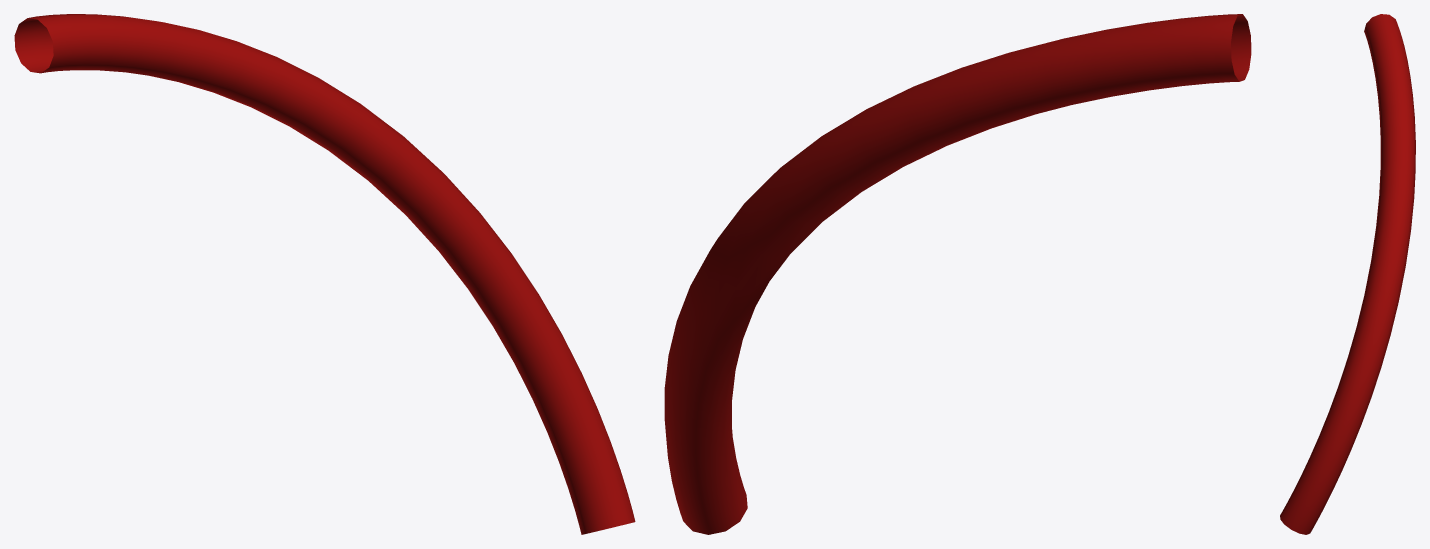
The model's file is red.obj.
3 renders of one model, left to right at view 1: azimuth 30°, elevation 25°; view 2: azimuth 150°, elevation 25°; view 3: azimuth 270°, elevation 25°, orthographic. The views are drawn at different scales.
Visible parts, largest first — view 1: Rainbow_Red_0; view 2: Rainbow_Red_0; view 3: Rainbow_Red_0.
Part boxes in pixels (x1,y1,x2,y2): Rainbow_Red_0: [14, 14, 635, 534]; Rainbow_Red_0: [664, 14, 1251, 534]; Rainbow_Red_0: [1280, 14, 1415, 534].
Size of the model in its own units: 0.0873 by 0.0923 by 0.031.
